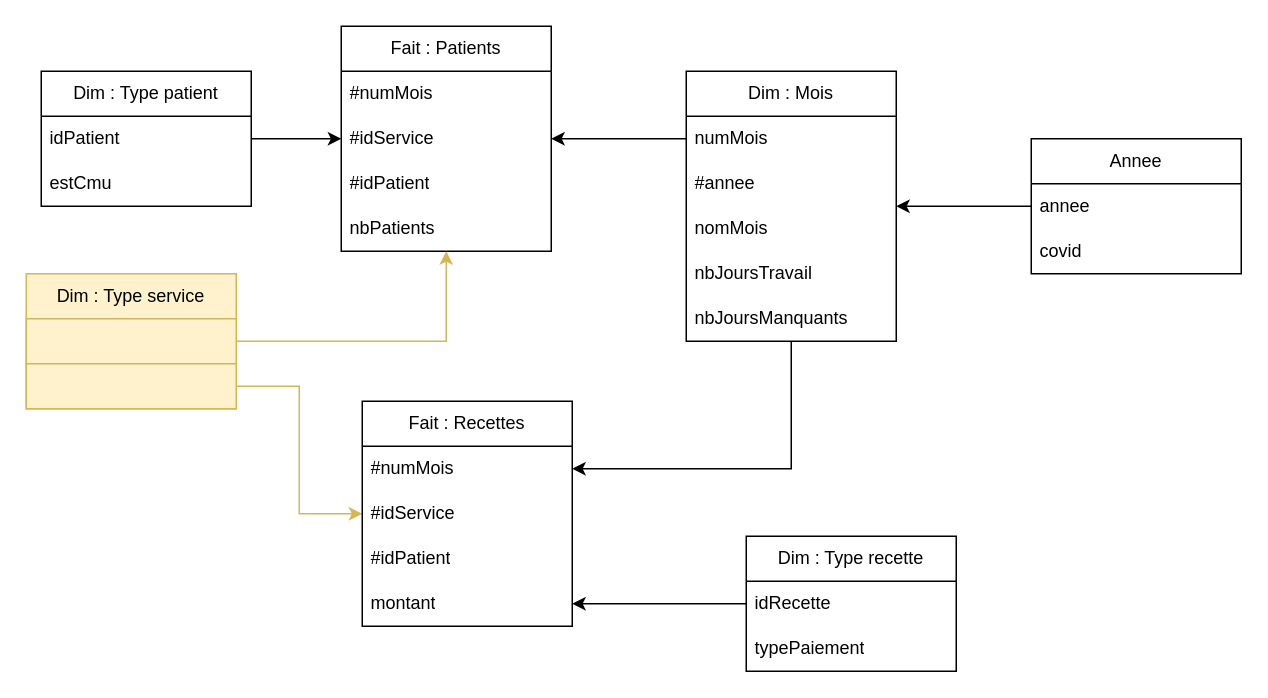
Some shapes in this 1268 by 698 pixel diagram are drawn without their labels. Here are the shapes that lost their labels. From the top down, the centre of each, then its label:
point (130, 340): idService
point (130, 385): estRadio
